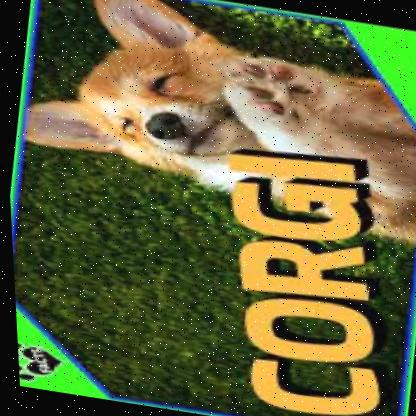dog: (9, 0, 416, 243)
